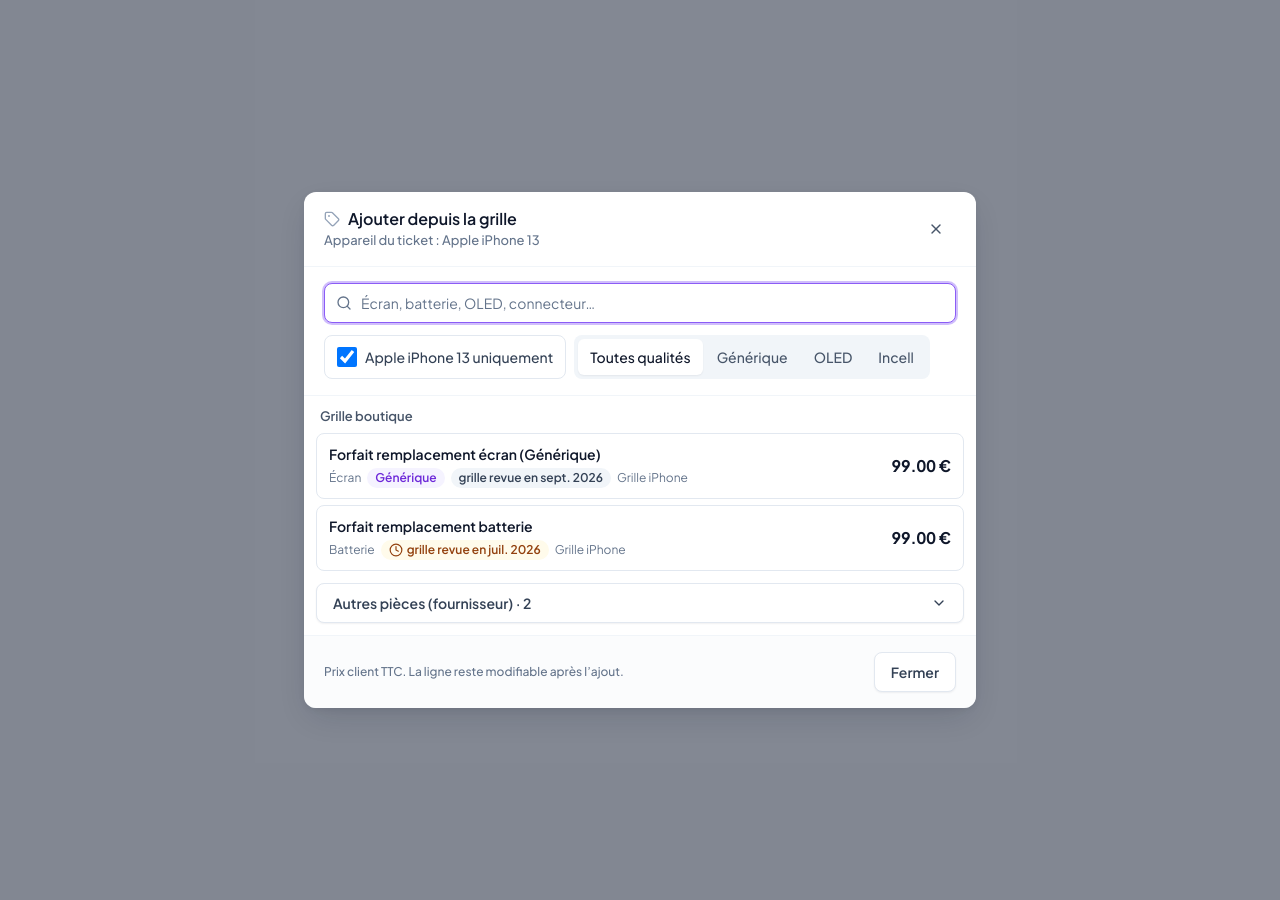
Test: TarifPicker : badges et groupes › filtre qualité sans ligne boutique : les pièces fournisseur s’affichent dépliées
Expected: the text "Forfait remplacement écran (Générique)" is shown, [329,445,601,463]
Click the button "OLED" at (833, 356), box [802,338,864,374]
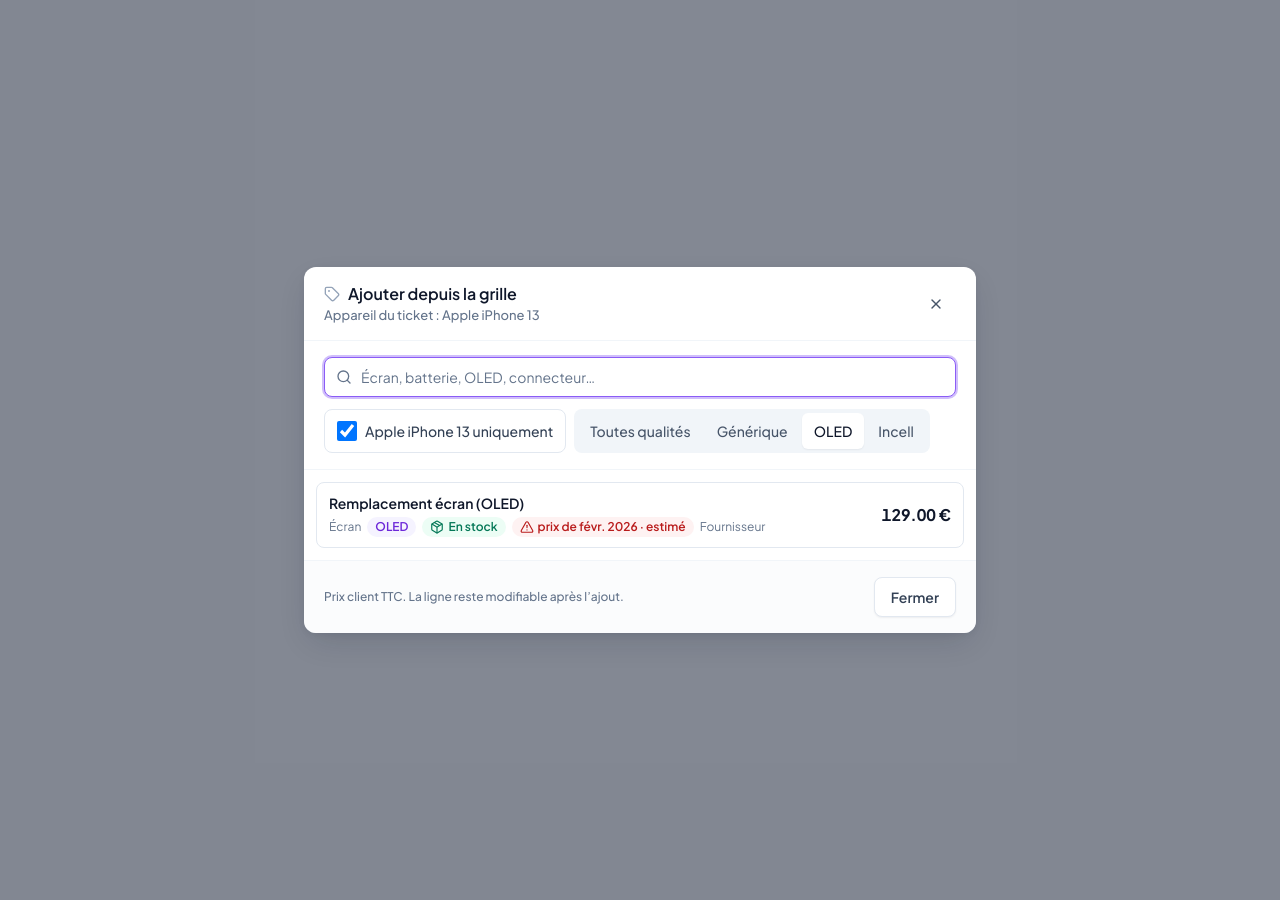
Result: the text "Remplacement écran (OLED)" is shown at [329,494,524,512]
Result: the button "Autres pièces" is gone
